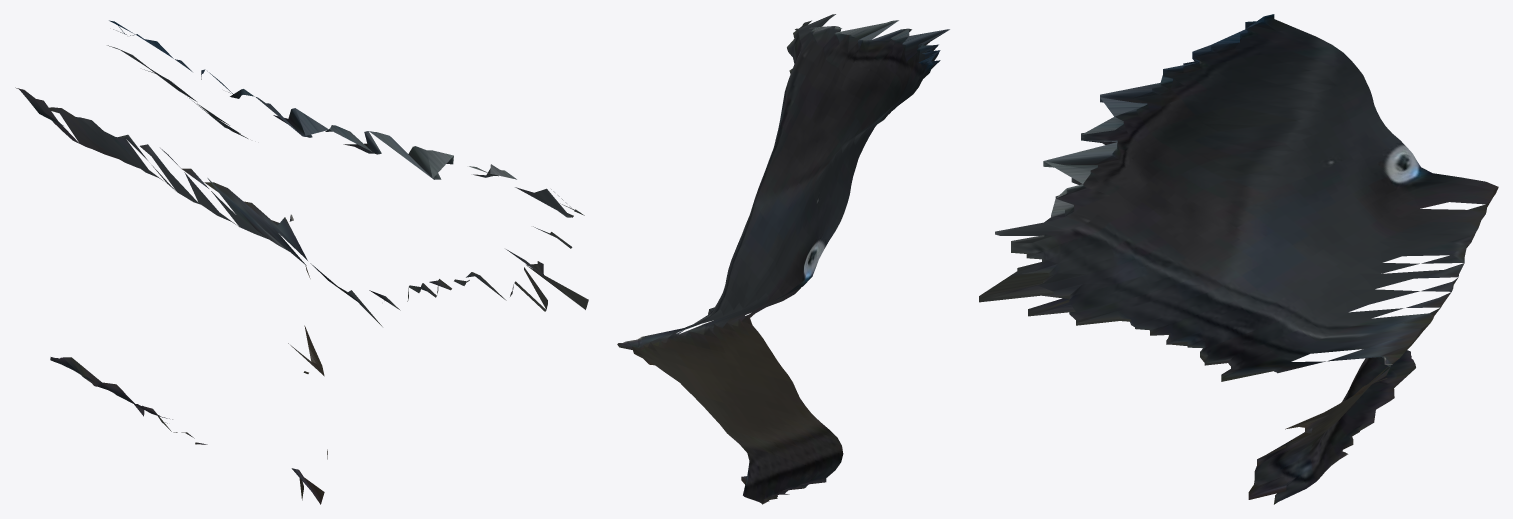
Rendered from observed-surface.glb.
The picture shows the model from 3 angles, left to right: view 1: azimuth 30°, elevation 25°; view 2: azimuth 150°, elevation 25°; view 3: azimuth 270°, elevation 25°; orthographic projection. The views are drawn at different scales.
Visible parts, largest first — view 1: geometry_0; view 2: geometry_0; view 3: geometry_0.
Part boxes in pixels (x1=…): geometry_0: x1=15, y1=20, x2=588, y2=504; geometry_0: x1=617, y1=14, x2=949, y2=504; geometry_0: x1=979, y1=14, x2=1498, y2=504.
Bounding box in the file's own units: 0.3946 × 0.6395 × 0.7265.
Materials: 1 (1 with a texture image).
